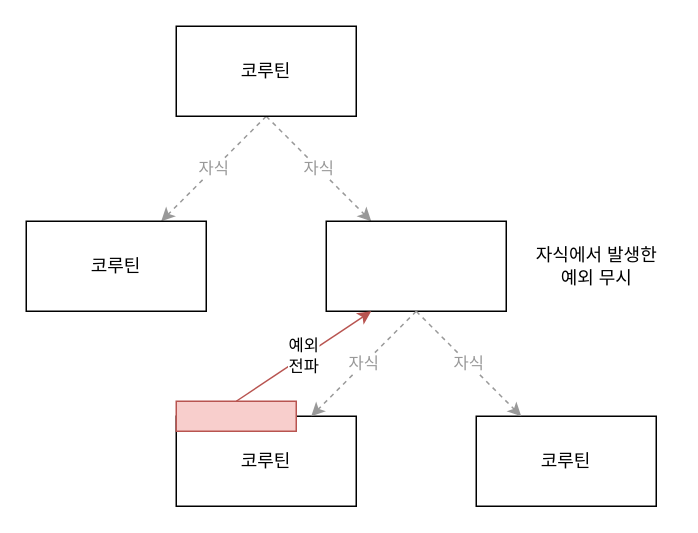
The diagram is 698 pixels wide and 533 high, and some of its shapes have lost their labels. Here are the shapes that lost their labels. From the top down, the centre of each, then its label:
At point 415,265: "코루틴 ( SupervisorJob )".
At point 235,415: "Exception!".
